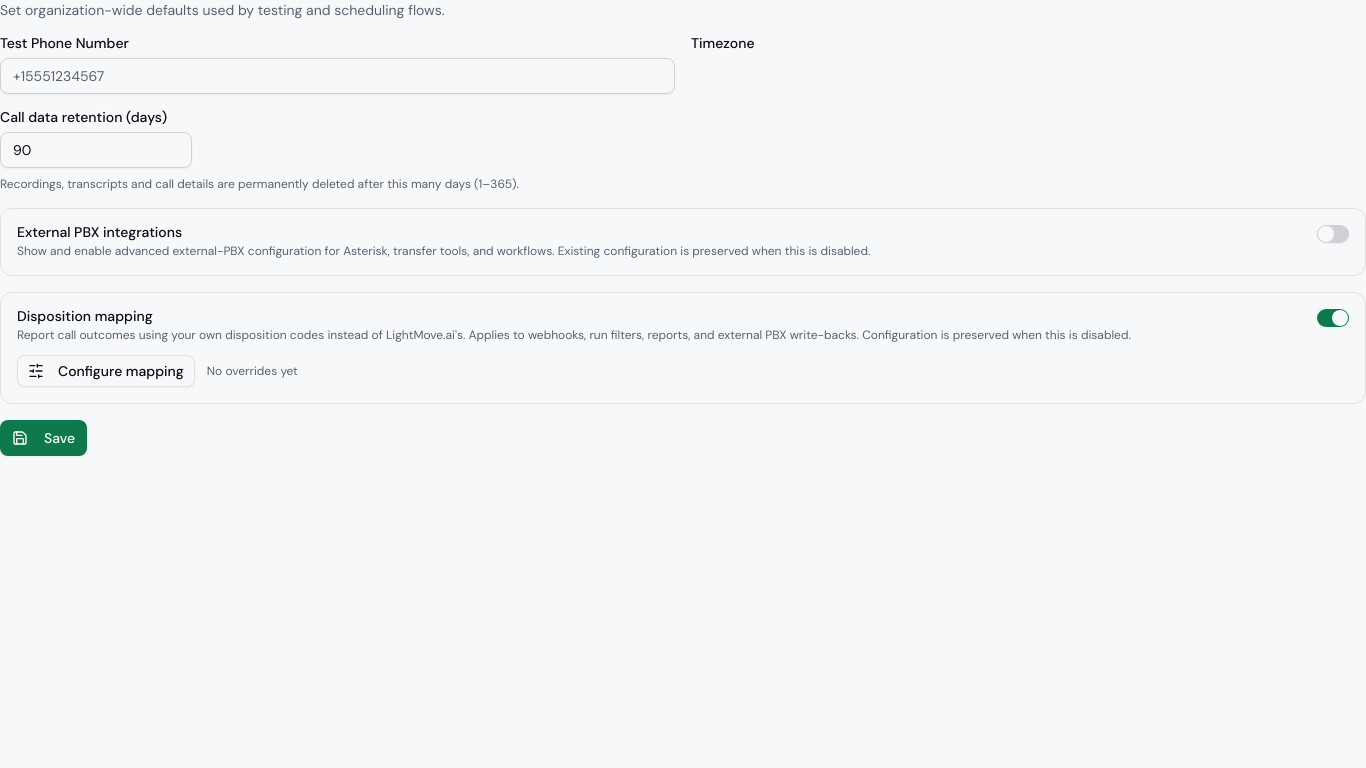
OrganizationPreferencesSection call data retention › does not save a shorter period when the confirmation is cancelled
The image size is (1366, 768).
Replace the text in the number field labelled "Call data retention (days)" with "30" at point(96, 150), box left=0, top=132, right=192, bottom=168
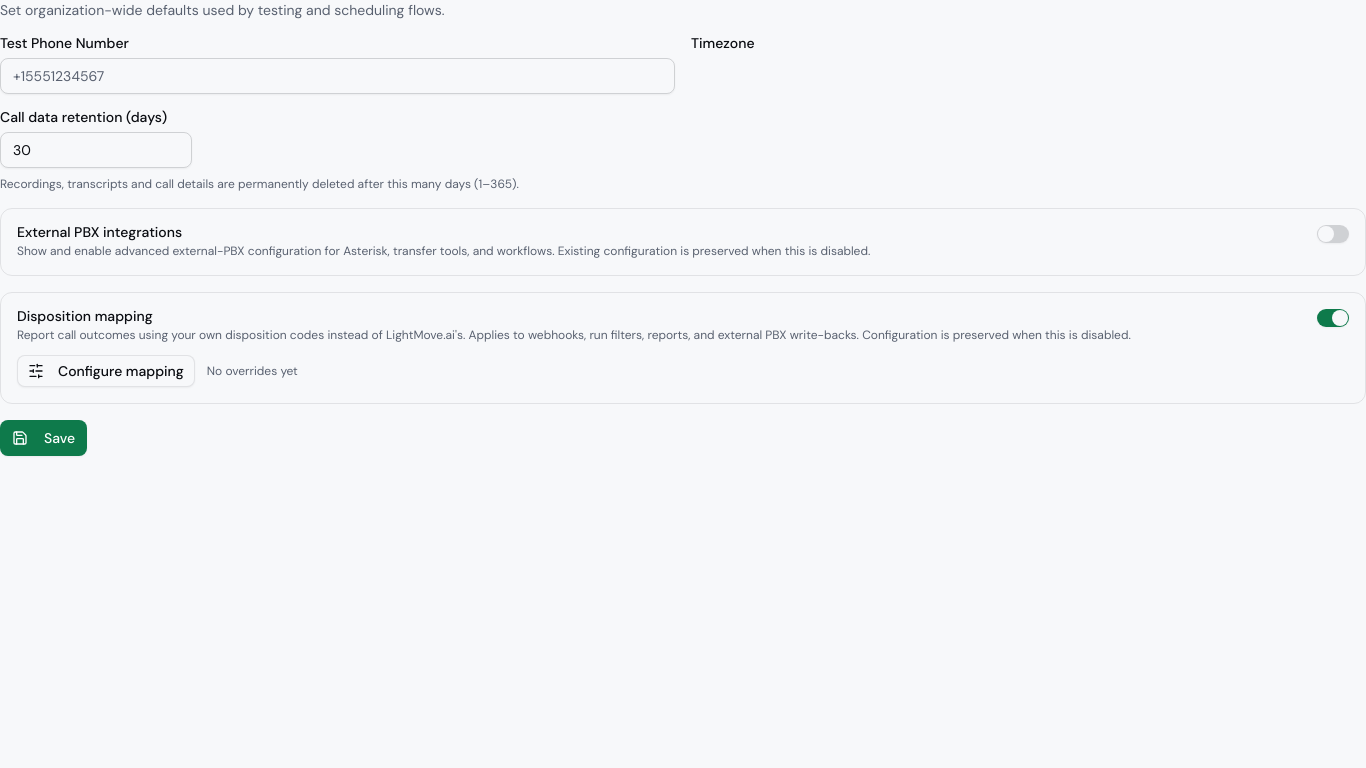
Click the button "Save" at point(44, 438), box left=0, top=420, right=87, bottom=456
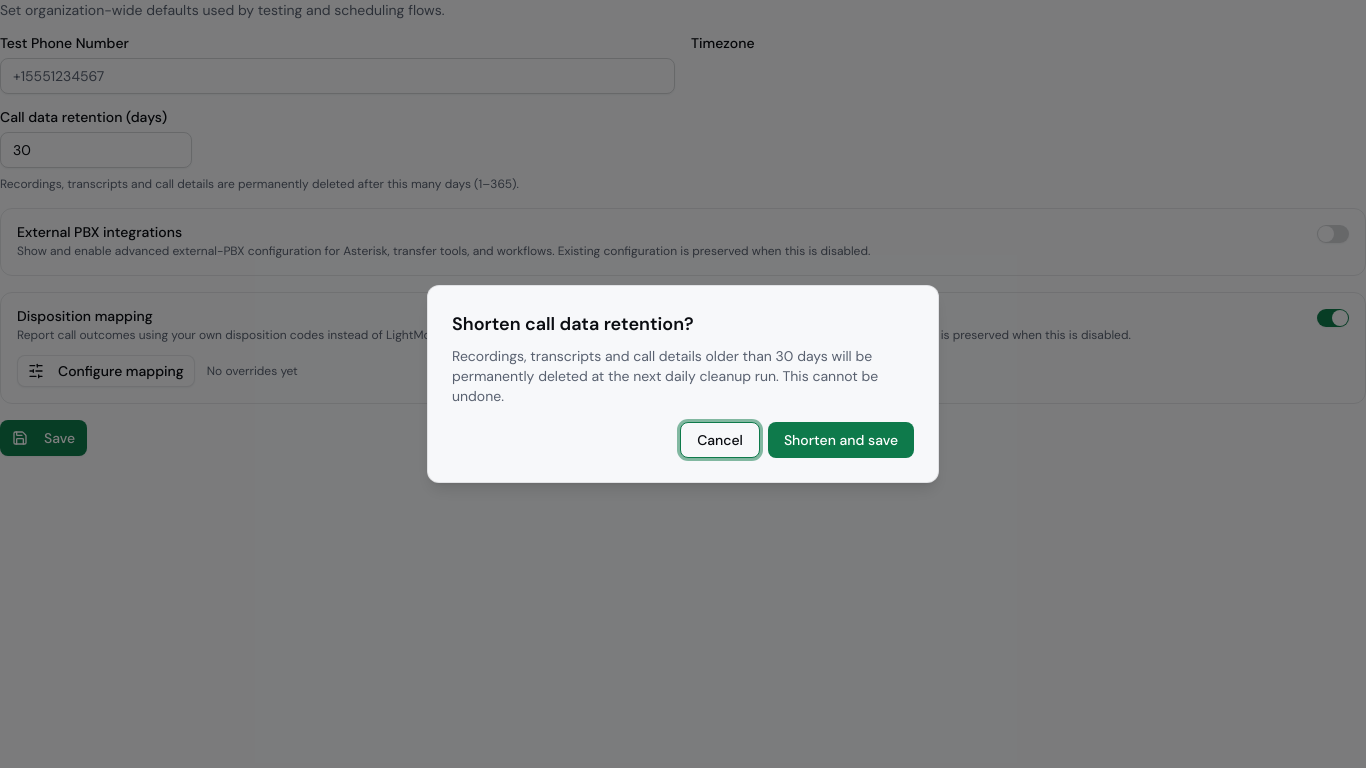
Click the button "Cancel" at point(720, 440), box left=680, top=422, right=760, bottom=458
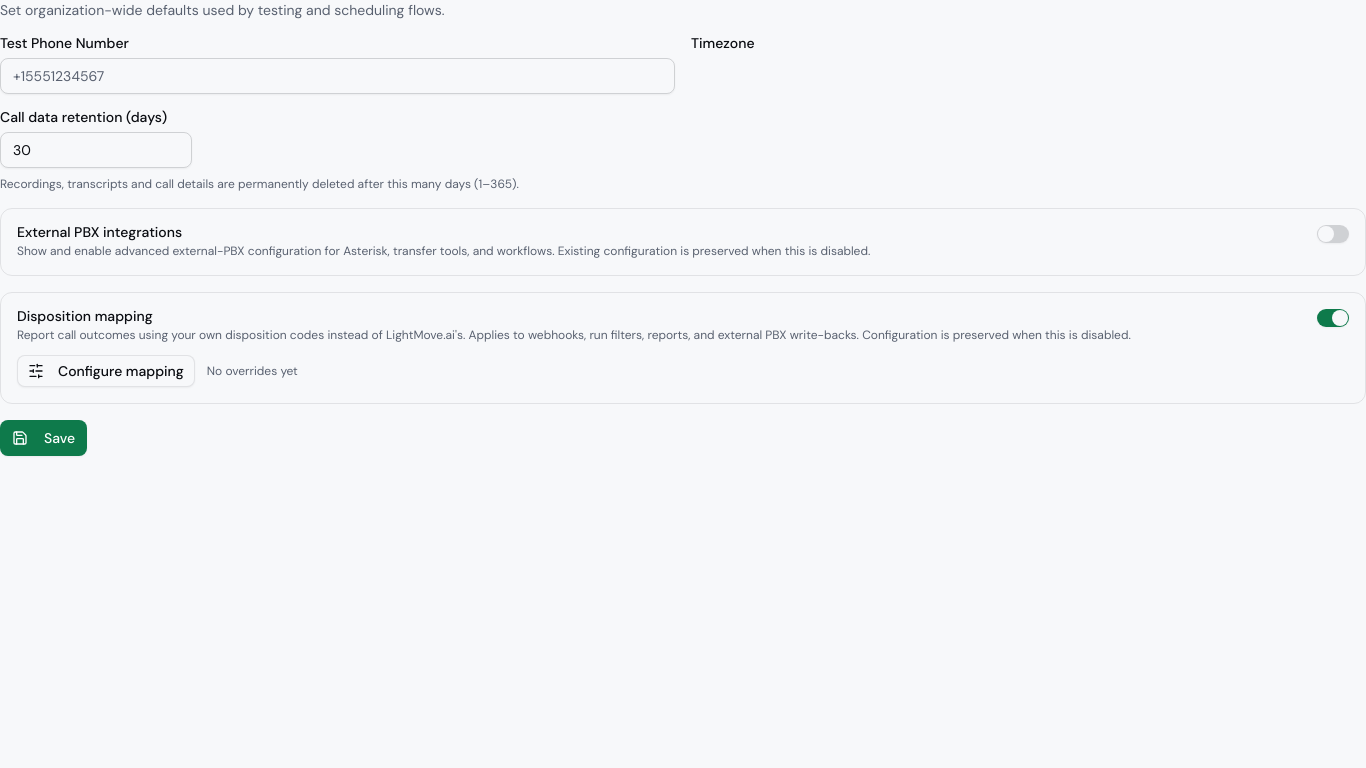
Expected: the dialog is gone
